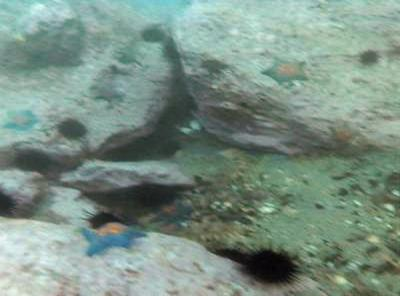urchin: (245, 242, 304, 287), (209, 238, 250, 265), (81, 205, 122, 230), (14, 147, 51, 172), (58, 117, 88, 142), (0, 186, 18, 216), (141, 25, 168, 42), (360, 48, 382, 67), (201, 57, 224, 73)
